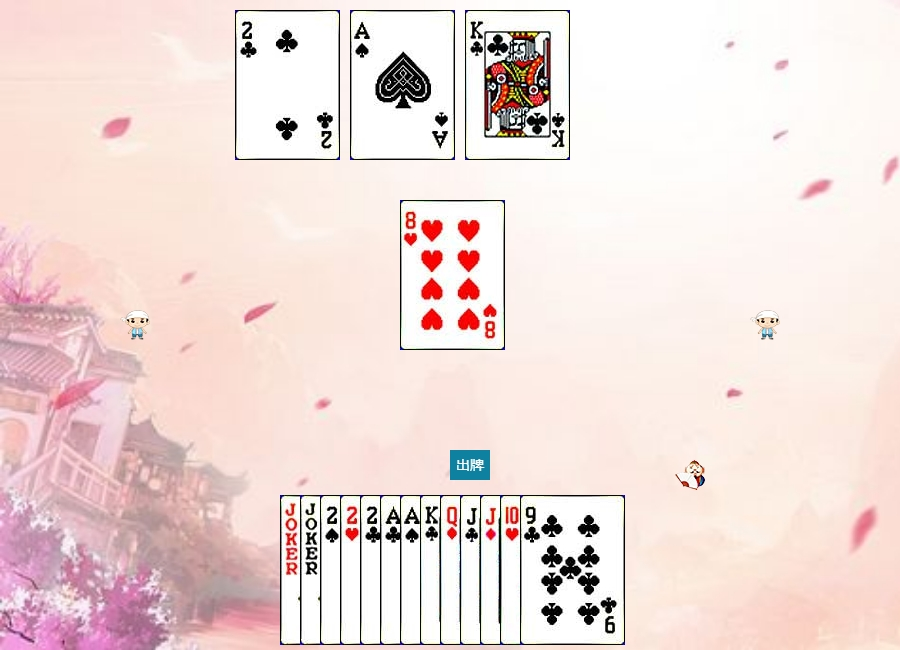10~3: (500, 495, 605, 645)
11~1: (480, 495, 585, 645)
11~2: (460, 495, 565, 645)
12~1: (440, 495, 545, 645)
13~2: (465, 10, 570, 160), (420, 495, 525, 645)
14~2: (380, 495, 485, 645)
14~4: (350, 10, 455, 160), (400, 495, 505, 645)
15~2: (235, 10, 340, 160), (360, 495, 465, 645)
15~3: (340, 495, 445, 645)
15~4: (320, 495, 425, 645)
17~3: (300, 495, 405, 645)
18~4: (280, 495, 385, 645)
8~3: (400, 200, 505, 350)
9~2: (520, 495, 625, 645)
